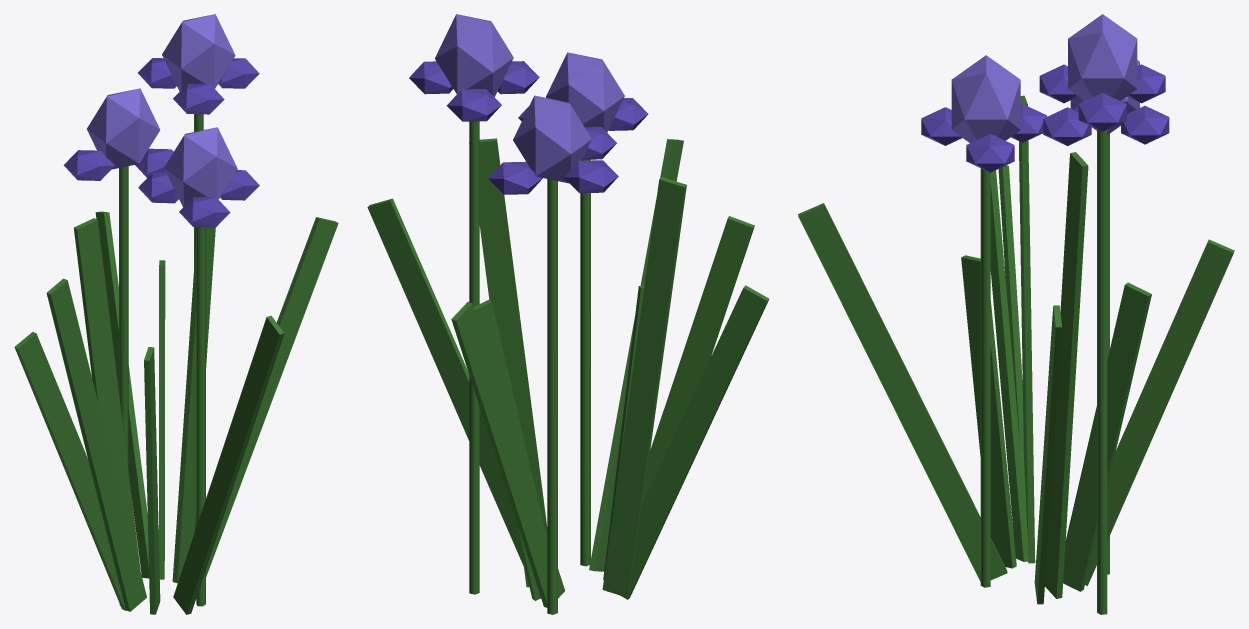
The model's file is iris.obj.
3 views of the same model, side by side, from view 1: azimuth 30°, elevation 25°; view 2: azimuth 150°, elevation 25°; view 3: azimuth 270°, elevation 25° (orthographic). The views are drawn at different scales.
Parts seen in each view (by area): view 1: iris_4, iris_0, iris_7, iris_6, iris_3, iris_1, iris_15, iris_5, iris_20, iris_10, iris_19, iris_2 (+10 smaller); view 2: iris_7, iris_6, iris_3, iris_1, iris_5, iris_4, iris_14, iris_15, iris_10, iris_9, iris_19, iris_20 (+10 smaller); view 3: iris_0, iris_5, iris_1, iris_8, iris_2, iris_4, iris_9, iris_10, iris_20, iris_19, iris_7, iris_3 (+10 smaller).
Part boxes in pixels (x1,y1,x2,y2): iris_4: (46, 278, 146, 611); iris_0: (173, 315, 284, 614); iris_7: (74, 218, 140, 605); iris_6: (14, 332, 125, 610); iris_3: (206, 217, 338, 576); iris_1: (172, 227, 215, 583); iris_15: (87, 88, 160, 169); iris_5: (95, 211, 149, 578); iris_20: (164, 127, 237, 207); iris_10: (162, 14, 235, 91); iris_19: (196, 227, 205, 606); iris_2: (144, 347, 160, 614); iris_7: (602, 177, 686, 597); iris_6: (620, 285, 769, 599); iris_3: (367, 198, 523, 566); iris_1: (469, 138, 547, 587); iris_5: (451, 301, 565, 607); iris_4: (643, 216, 754, 502); iris_14: (547, 179, 557, 614); iris_15: (513, 95, 591, 183); iris_10: (435, 14, 513, 96); iris_9: (469, 121, 479, 594); iris_19: (580, 159, 590, 566); iris_20: (546, 52, 624, 132); iris_0: (798, 203, 1007, 581); iris_5: (1085, 239, 1234, 585); iris_1: (1045, 152, 1088, 598); iris_8: (1063, 282, 1151, 591); iris_2: (961, 255, 1016, 568); iris_4: (990, 170, 1028, 561); iris_9: (1097, 129, 1107, 614); iris_10: (1068, 14, 1137, 100); iris_20: (951, 55, 1020, 142); iris_19: (980, 168, 990, 587); iris_7: (1019, 95, 1035, 563); iris_3: (1034, 305, 1062, 604).
Bounding box in the file's own units: 0.5426 × 0.8065 × 0.5366.
